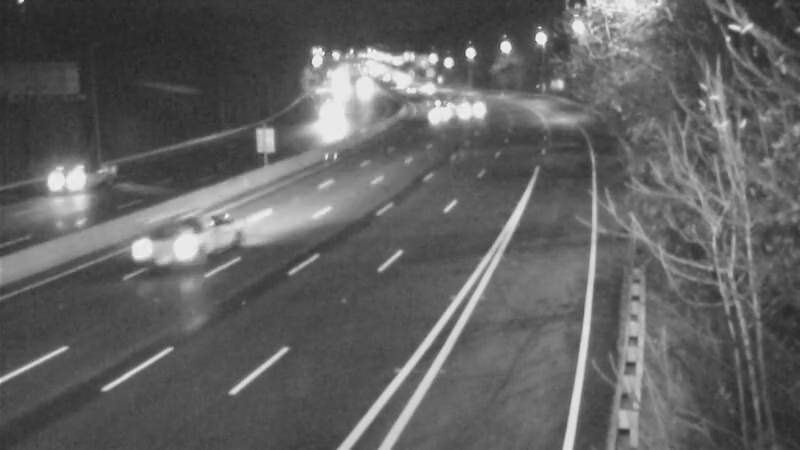vehicle: (124, 210, 204, 290), (23, 144, 103, 224), (448, 88, 498, 138), (408, 81, 458, 131), (304, 91, 354, 141)
